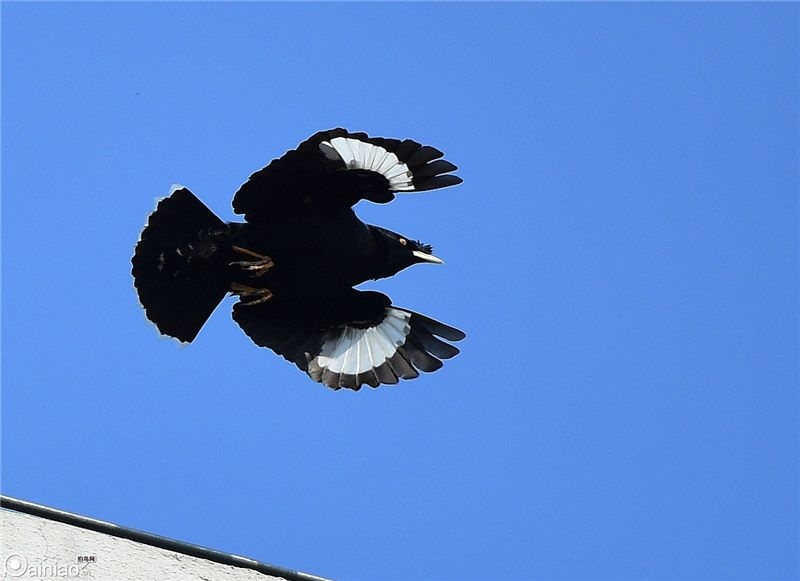bird: (116, 125, 466, 393)
